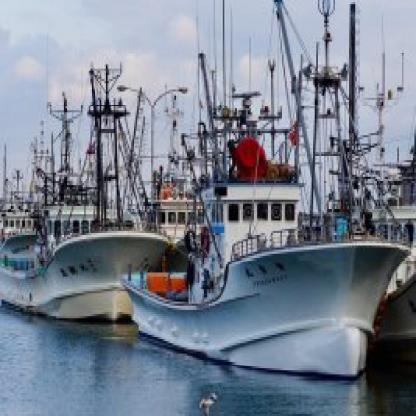fish-b: (118, 141, 414, 385), (1, 66, 174, 326)
